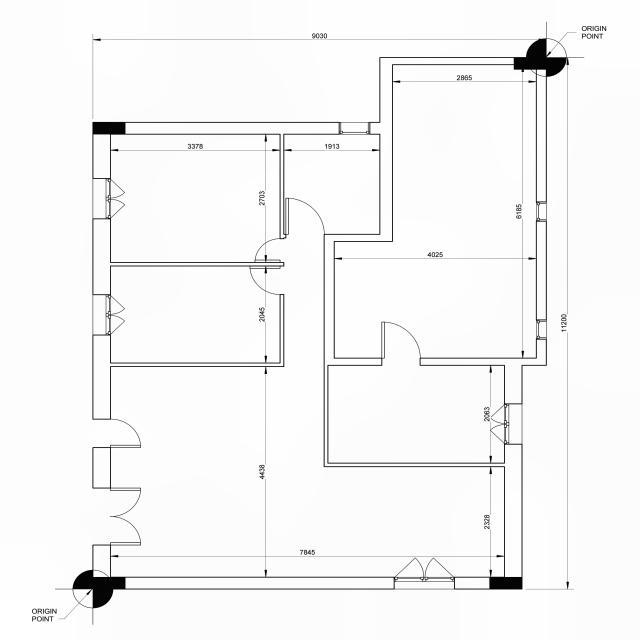Column: (512, 54, 549, 72), (90, 575, 128, 592), (486, 574, 524, 591), (91, 120, 128, 137)
Door: (372, 316, 428, 362), (283, 197, 329, 238), (100, 414, 144, 456), (242, 265, 286, 298), (249, 236, 284, 264)
Double-Door: (100, 484, 148, 548)
Window: (384, 552, 458, 592), (482, 402, 528, 448), (99, 176, 128, 226), (100, 292, 128, 339), (337, 118, 372, 138), (534, 318, 550, 343), (534, 200, 550, 222)
